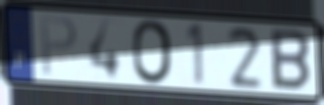1: (185, 21, 206, 89)
2: (224, 24, 265, 90)
4: (88, 16, 125, 83)
B: (269, 26, 312, 94)
O: (130, 18, 175, 87)
P: (39, 14, 80, 79)
